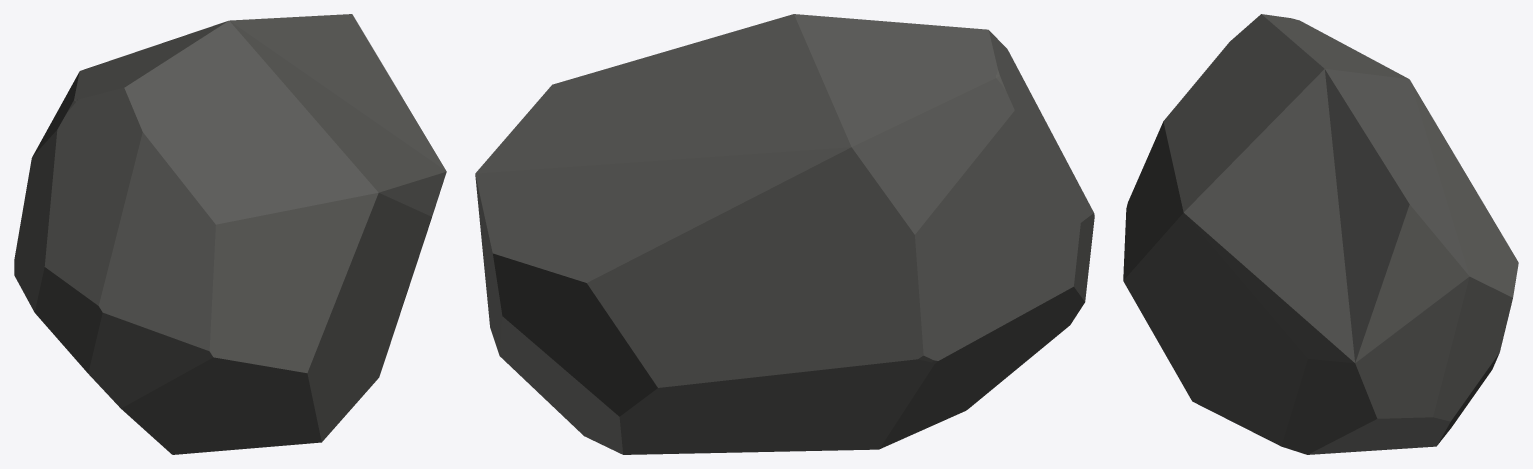
Rendered from SM_Envr_Nature_Rock_05.fbx.
3 views of the same model, side by side, from view 1: azimuth 30°, elevation 25°; view 2: azimuth 150°, elevation 25°; view 3: azimuth 270°, elevation 25° (orthographic). The views are drawn at different scales.
Parts seen in each view (by area): view 1: SM_Envr_Nature_Rock_05; view 2: SM_Envr_Nature_Rock_05; view 3: SM_Envr_Nature_Rock_05.
Boxes of the visible parts, x1,y1,x2,y2 form: SM_Envr_Nature_Rock_05: [14, 14, 446, 454]; SM_Envr_Nature_Rock_05: [475, 14, 1094, 454]; SM_Envr_Nature_Rock_05: [1123, 14, 1518, 454].
Size of the model in its own units: 165 by 128 by 140.
